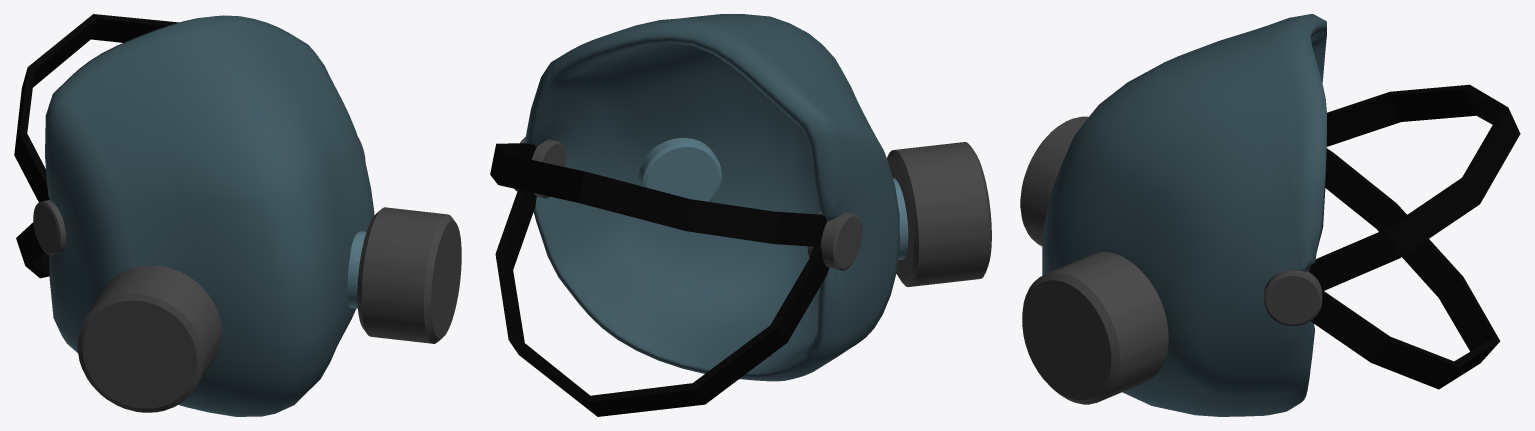
File: respirator.fbx
The picture shows the model from 3 angles, left to right: view 1: azimuth 30°, elevation 25°; view 2: azimuth 150°, elevation 25°; view 3: azimuth 270°, elevation 25°; orthographic projection. The views are drawn at different scales.
Visible parts, largest first — view 1: group3_pCylinder1, pCube1, pCube2; view 2: group3_pCylinder1, pCube1, pCube2; view 3: group3_pCylinder1, pCube1, pCube2.
Part boxes in pixels (x1,y1,x2,y2): group3_pCylinder1: [33, 15, 461, 416]; pCube1: [14, 14, 178, 202]; pCube2: [16, 222, 49, 278]; group3_pCylinder1: [514, 14, 991, 381]; pCube1: [490, 143, 826, 246]; pCube2: [495, 189, 829, 416]; group3_pCylinder1: [1020, 14, 1326, 416]; pCube1: [1309, 84, 1520, 291]; pCube2: [1310, 148, 1500, 389].
Size of the model in its own units: 5.24 by 4.52 by 5.62.
